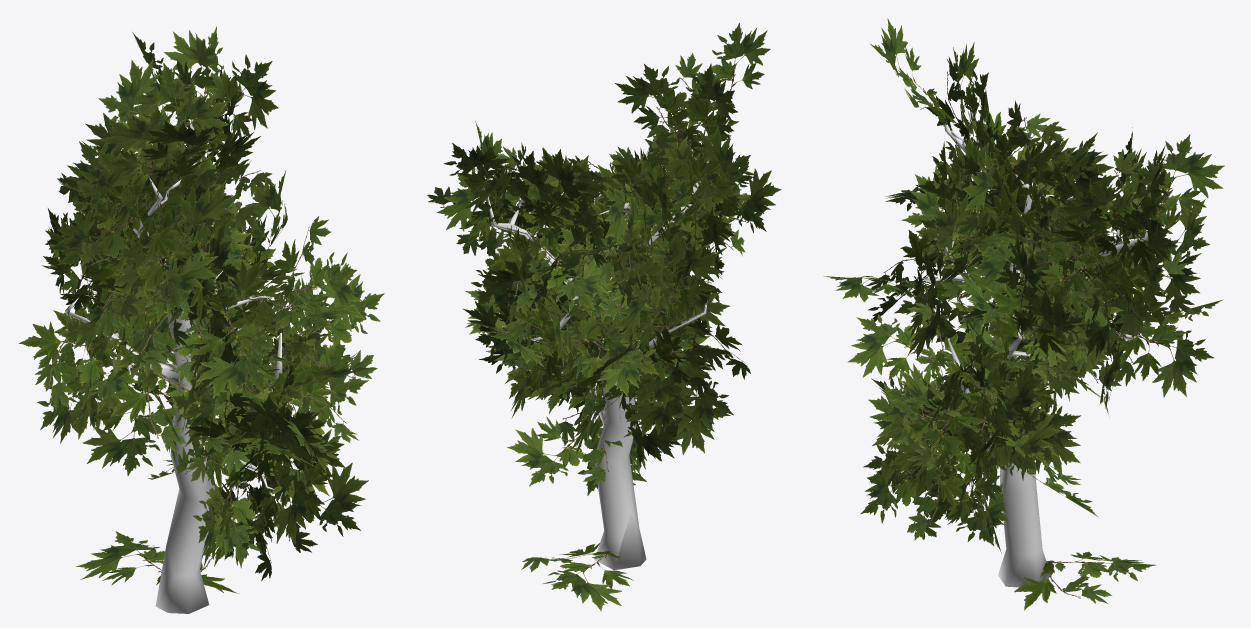
Rendered from Tree_1_FULL_DECIMATED.fbx.
The picture shows the model from 3 angles, left to right: view 1: azimuth 30°, elevation 25°; view 2: azimuth 150°, elevation 25°; view 3: azimuth 270°, elevation 25°; orthographic projection. The views are drawn at different scales.
Parts seen in each view (by area): view 1: Stronk, Stronk|Blad|Dupli|82, Stronk|Blad|Dupli|61, Stronk|Blad|Dupli|59, Stronk|Blad|Dupli|17, Stronk|Blad|Dupli|83, Stronk|Blad|Dupli|128, Stronk|Blad|Dupli|74, Stronk|Blad|Dupli|144, Stronk|Blad|Dupli|70, Stronk|Blad|Dupli|138, Stronk|Blad|Dupli|113 (+63 smaller); view 2: Stronk, Stronk|Blad|Dupli|54, Stronk|Blad|Dupli|11, Stronk|Blad|Dupli|46, Stronk|Blad|Dupli|139, Stronk|Blad|Dupli|109, Stronk|Blad|Dupli|80, Stronk|Blad|Dupli|34, Stronk|Blad|Dupli|41, Stronk|Blad|Dupli|112, Blad, Stronk|Blad|Dupli|52 (+53 smaller); view 3: Stronk, Stronk|Blad|Dupli|60, Stronk|Blad|Dupli|134, Stronk|Blad|Dupli|144, Stronk|Blad|Dupli|92, Blad, Stronk|Blad|Dupli|128, Stronk|Blad|Dupli|28, Stronk|Blad|Dupli|116, Stronk|Blad|Dupli|15, Stronk|Blad|Dupli|135, Stronk|Blad|Dupli|132 (+69 smaller).
Boxes of the visible parts, <box> form: Stronk: <box>65,119,284,613</box>; Stronk|Blad|Dupli|82: <box>193,260,297,398</box>; Stronk|Blad|Dupli|61: <box>57,198,185,295</box>; Stronk|Blad|Dupli|59: <box>282,262,384,402</box>; Stronk|Blad|Dupli|17: <box>19,316,137,416</box>; Stronk|Blad|Dupli|83: <box>274,216,364,331</box>; Stronk|Blad|Dupli|128: <box>160,39,278,138</box>; Stronk|Blad|Dupli|74: <box>186,392,327,471</box>; Stronk|Blad|Dupli|144: <box>246,458,368,552</box>; Stronk|Blad|Dupli|70: <box>235,423,324,544</box>; Stronk|Blad|Dupli|138: <box>120,229,218,323</box>; Stronk|Blad|Dupli|113: <box>82,379,176,476</box>; Stronk: <box>488,120,729,570</box>; Stronk|Blad|Dupli|54: <box>615,63,738,149</box>; Stronk|Blad|Dupli|11: <box>507,416,632,486</box>; Stronk|Blad|Dupli|46: <box>489,230,614,316</box>; Stronk|Blad|Dupli|139: <box>681,126,765,237</box>; Stronk|Blad|Dupli|109: <box>672,22,770,128</box>; Stronk|Blad|Dupli|80: <box>654,326,733,440</box>; Stronk|Blad|Dupli|34: <box>527,283,640,381</box>; Stronk|Blad|Dupli|41: <box>624,336,709,436</box>; Stronk|Blad|Dupli|112: <box>615,234,724,340</box>; Blad: <box>521,543,633,611</box>; Stronk|Blad|Dupli|52: <box>646,63,737,158</box>; Stronk: <box>915,100,1150,587</box>; Stronk|Blad|Dupli|60: <box>847,302,975,382</box>; Stronk|Blad|Dupli|134: <box>1099,134,1224,237</box>; Stronk|Blad|Dupli|144: <box>860,450,973,540</box>; Stronk|Blad|Dupli|92: <box>1111,293,1213,397</box>; Blad: <box>1014,551,1156,610</box>; Stronk|Blad|Dupli|128: <box>1057,160,1173,236</box>; Stronk|Blad|Dupli|28: <box>1004,232,1071,356</box>; Stronk|Blad|Dupli|116: <box>969,406,1060,501</box>; Stronk|Blad|Dupli|15: <box>868,384,975,467</box>; Stronk|Blad|Dupli|135: <box>1030,259,1152,343</box>; Stronk|Blad|Dupli|132: <box>1052,191,1176,266</box>.
Bounding box in the file's own units: 500 × 828 × 587.
